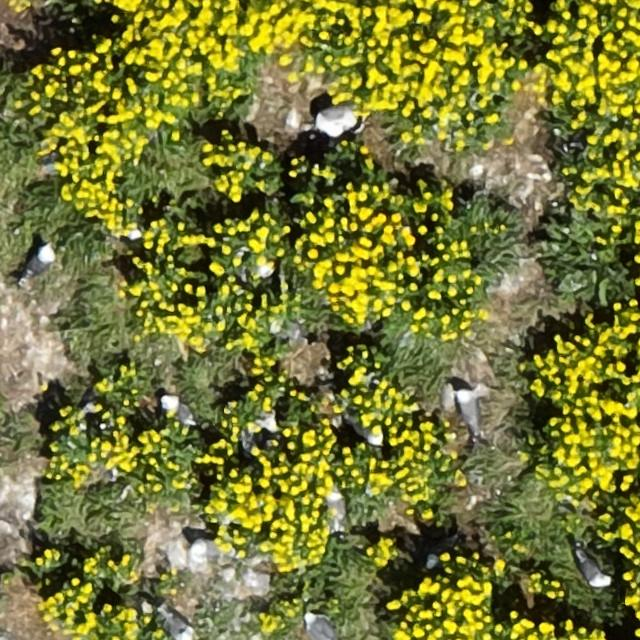umineko: (577, 555, 608, 588), (317, 110, 356, 136), (459, 390, 481, 434), (23, 246, 53, 278), (192, 540, 234, 562), (163, 398, 193, 425), (163, 611, 190, 639), (304, 616, 334, 639), (327, 490, 344, 530), (369, 427, 385, 458)
